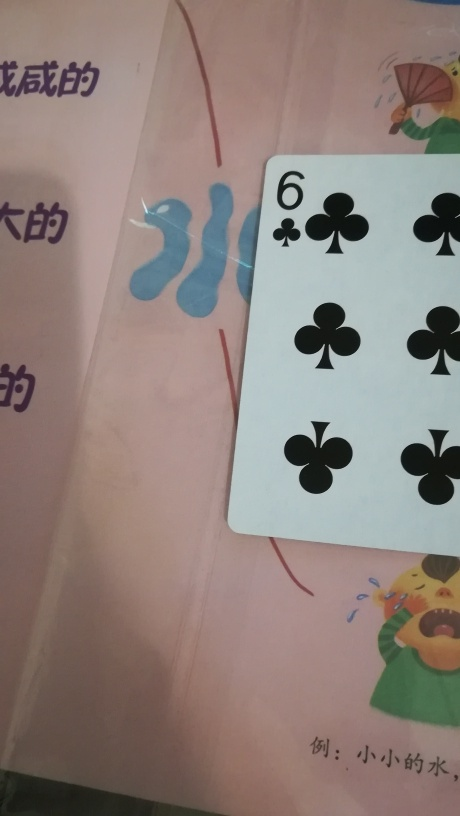mh 6: (224, 145, 460, 554)
